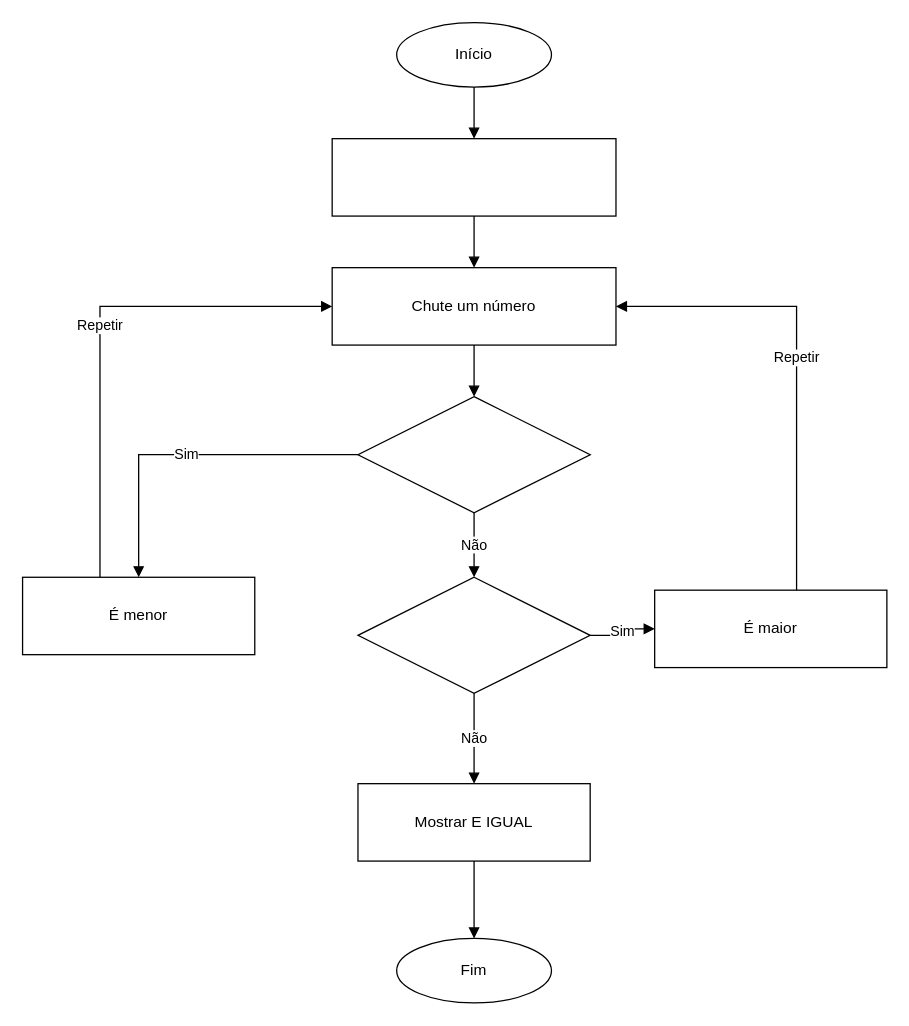
This 909x1026 diagram has some shape labels left out. Here are the shapes that lost their labels. From the top down, the centre of each, then its label:
the point at 473,176: Informe o número secreto
the point at 473,454: Palpite < número
the point at 473,634: Palpite > número?
